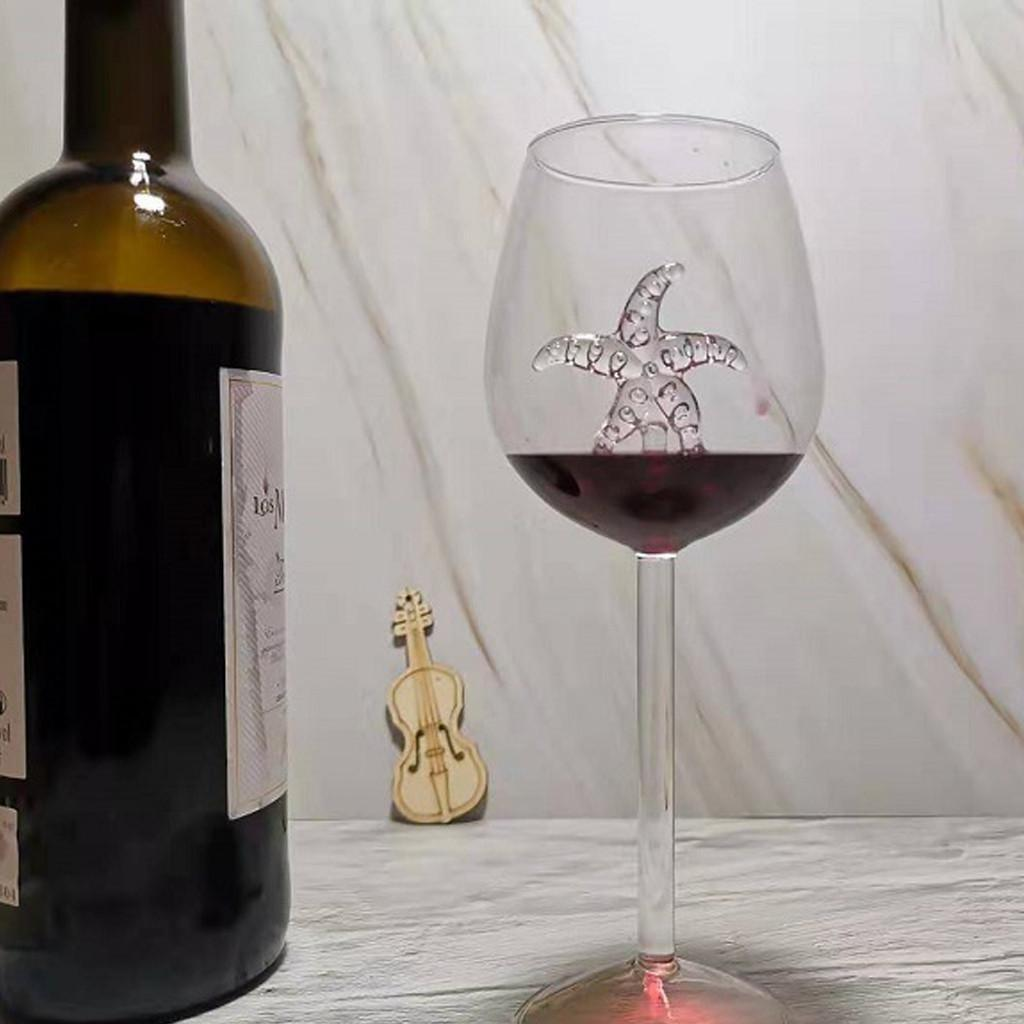bottle-glass: (1, 4, 305, 1021)
glass-wine: (486, 101, 829, 1024)
